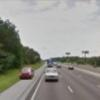cars: (44, 68, 62, 83), (19, 68, 37, 80)
